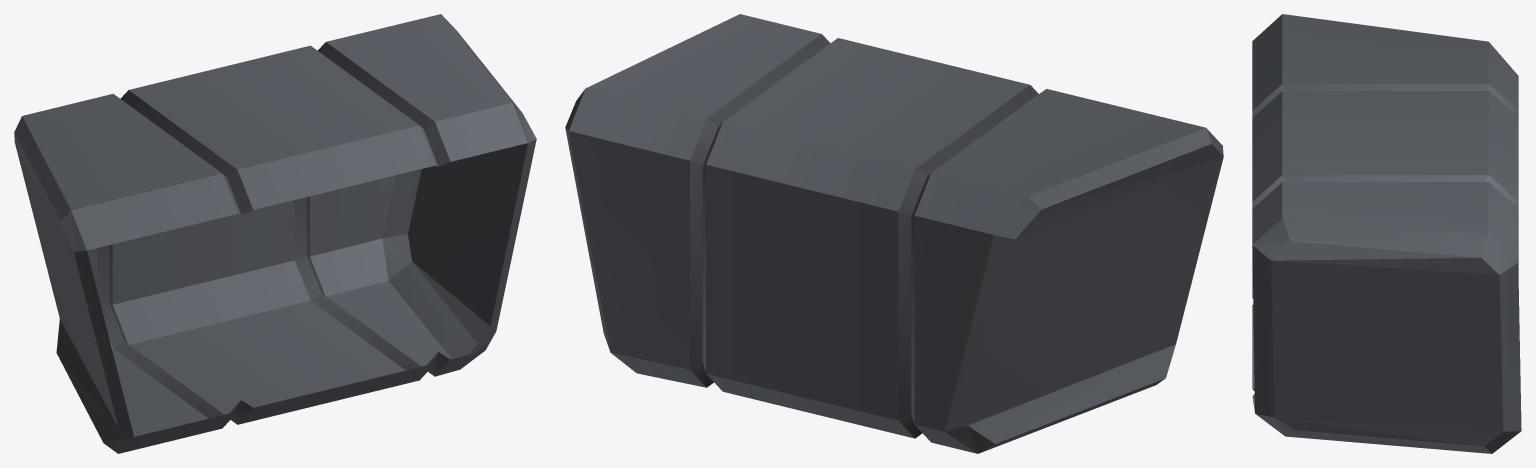
The model's file is Pillar Broken 02.FBX.
3 renders of one model, left to right at view 1: azimuth 30°, elevation 25°; view 2: azimuth 150°, elevation 25°; view 3: azimuth 270°, elevation 25°, orthographic. The views are drawn at different scales.
Parts seen in each view (by area): view 1: Pillar Broken 02; view 2: Pillar Broken 02; view 3: Pillar Broken 02.
Part boxes in pixels (bbox=[...]): Pillar Broken 02: bbox=[14, 14, 536, 453]; Pillar Broken 02: bbox=[565, 14, 1223, 453]; Pillar Broken 02: bbox=[1252, 14, 1521, 453].
Size of the model in its own units: 99.65 by 48.76 by 49.1.
